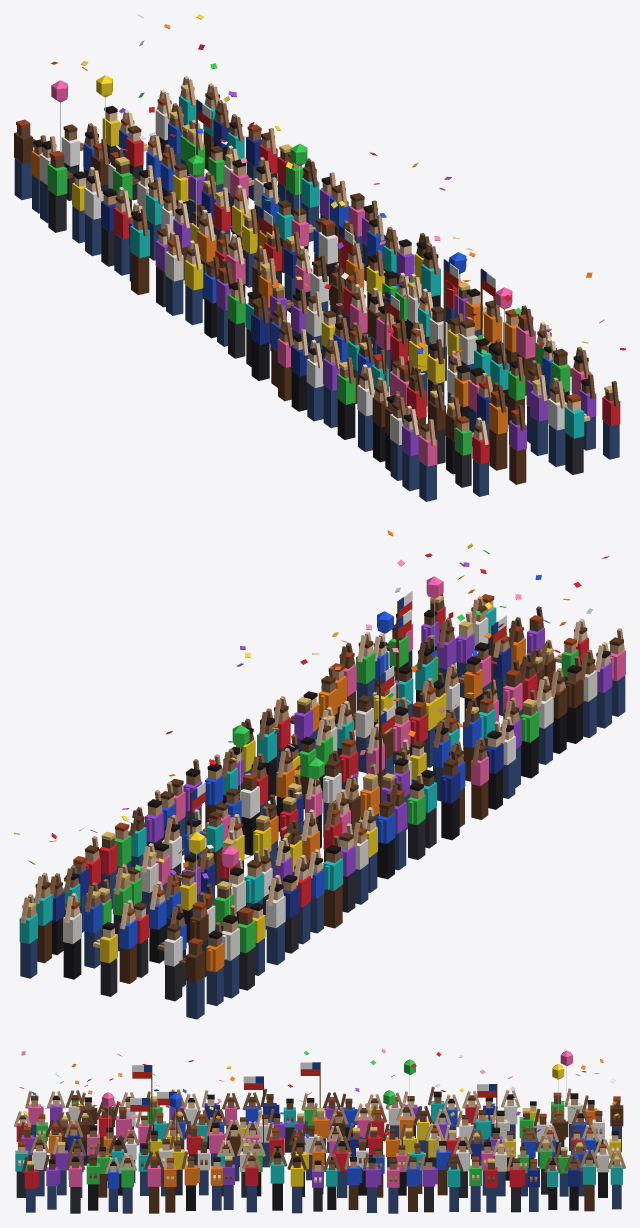
Rendered from multitud_larga_3.obj.
The picture shows the model from 3 angles, top to bottom: view 1: azimuth 30°, elevation 25°; view 2: azimuth 150°, elevation 25°; view 3: azimuth 270°, elevation 25°; orthographic projection. The views are drawn at different scales.
Visible parts, largest first — view 1: multitud_larga_3; view 2: multitud_larga_3; view 3: multitud_larga_3.
Boxes of the visible parts, bbox=[...] form: multitud_larga_3: bbox=[14, 14, 625, 501]; multitud_larga_3: bbox=[14, 530, 625, 1019]; multitud_larga_3: bbox=[14, 1048, 625, 1213].
Bounding box in the file's own units: 5.08 × 3.65 × 18.27.
